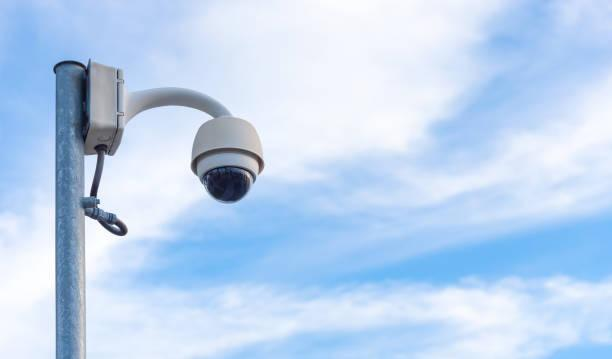camera: (182, 97, 274, 213)
